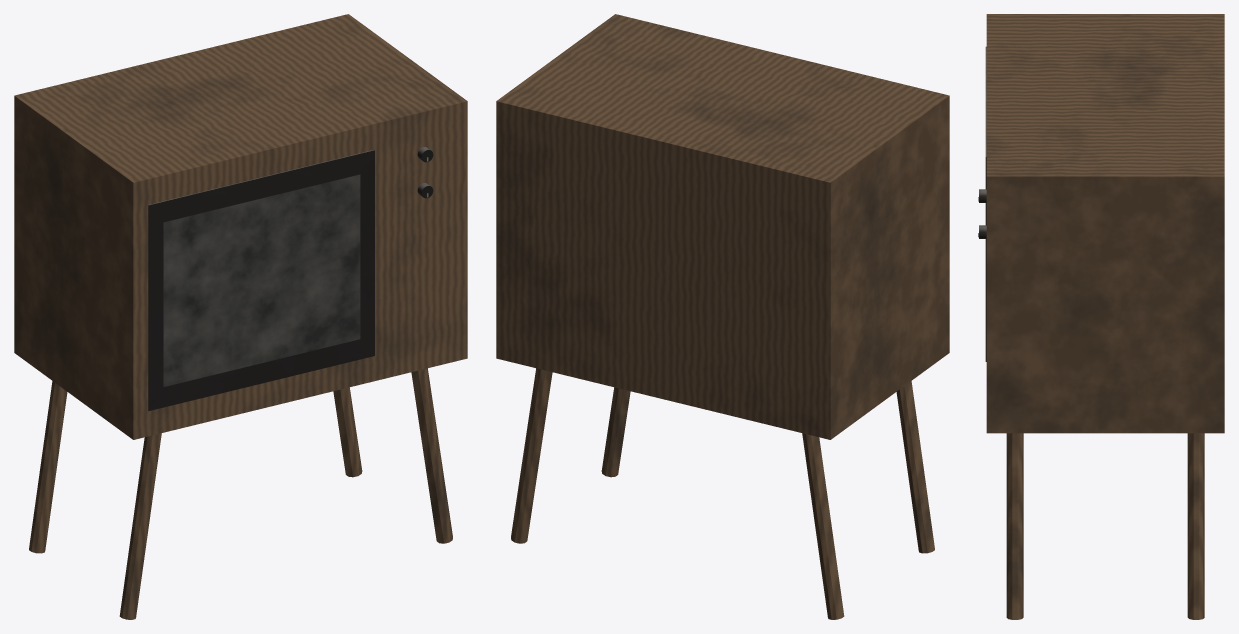
The model's file is SM_TV_CRT_Soviet.fbx.
3 renders of one model, left to right at view 1: azimuth 30°, elevation 25°; view 2: azimuth 150°, elevation 25°; view 3: azimuth 270°, elevation 25°, orthographic.
Parts seen in each view (by area): view 1: SM_TV_CRT_Soviet; view 2: SM_TV_CRT_Soviet; view 3: SM_TV_CRT_Soviet.
Boxes of the visible parts, left/top/right/bottom form: SM_TV_CRT_Soviet: left=14, top=14, right=467, bottom=619; SM_TV_CRT_Soviet: left=496, top=14, right=949, bottom=619; SM_TV_CRT_Soviet: left=978, top=14, right=1224, bottom=619.
Bounding box in the file's own units: 0.68 × 0.87 × 0.4348.
Materials: 1 (1 with a texture image).
